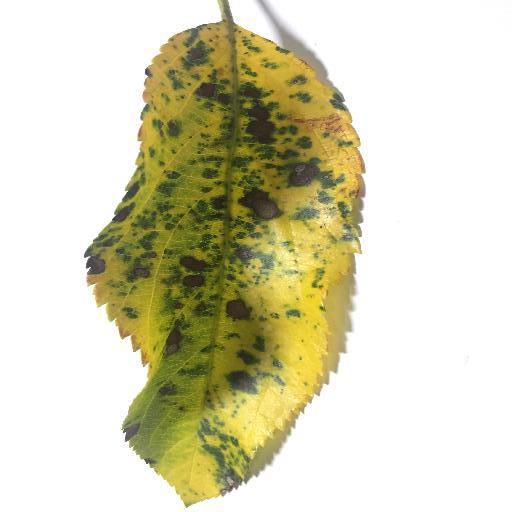Brown_Spot: (248, 92, 274, 138), (244, 192, 278, 222), (181, 255, 207, 289), (154, 327, 181, 355), (229, 300, 251, 325), (287, 159, 306, 186)
